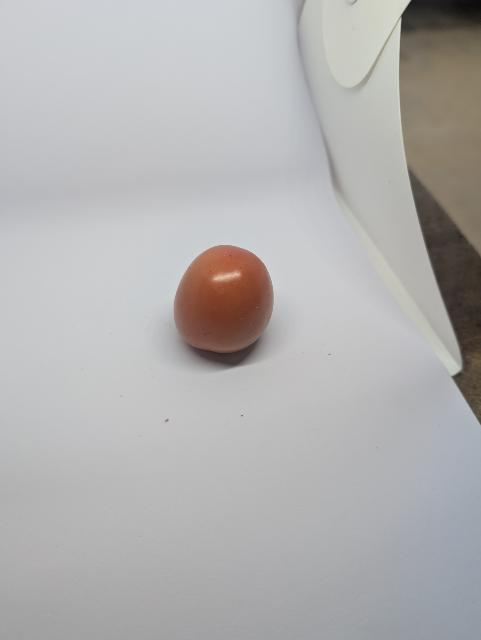red: (144, 223, 300, 379)
